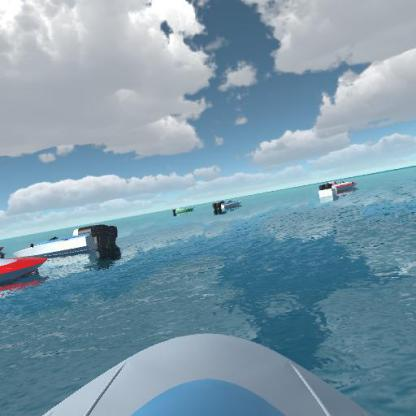usv0: (170, 202, 195, 217)
usv1: (14, 220, 127, 264), (212, 196, 246, 216)
usv3: (0, 245, 49, 284), (314, 176, 363, 198)
